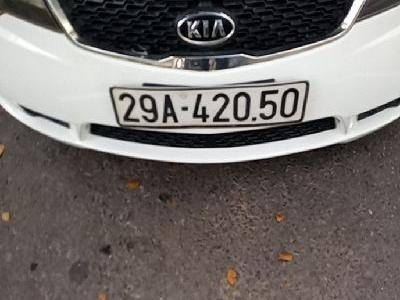lisence: (109, 79, 311, 130)
